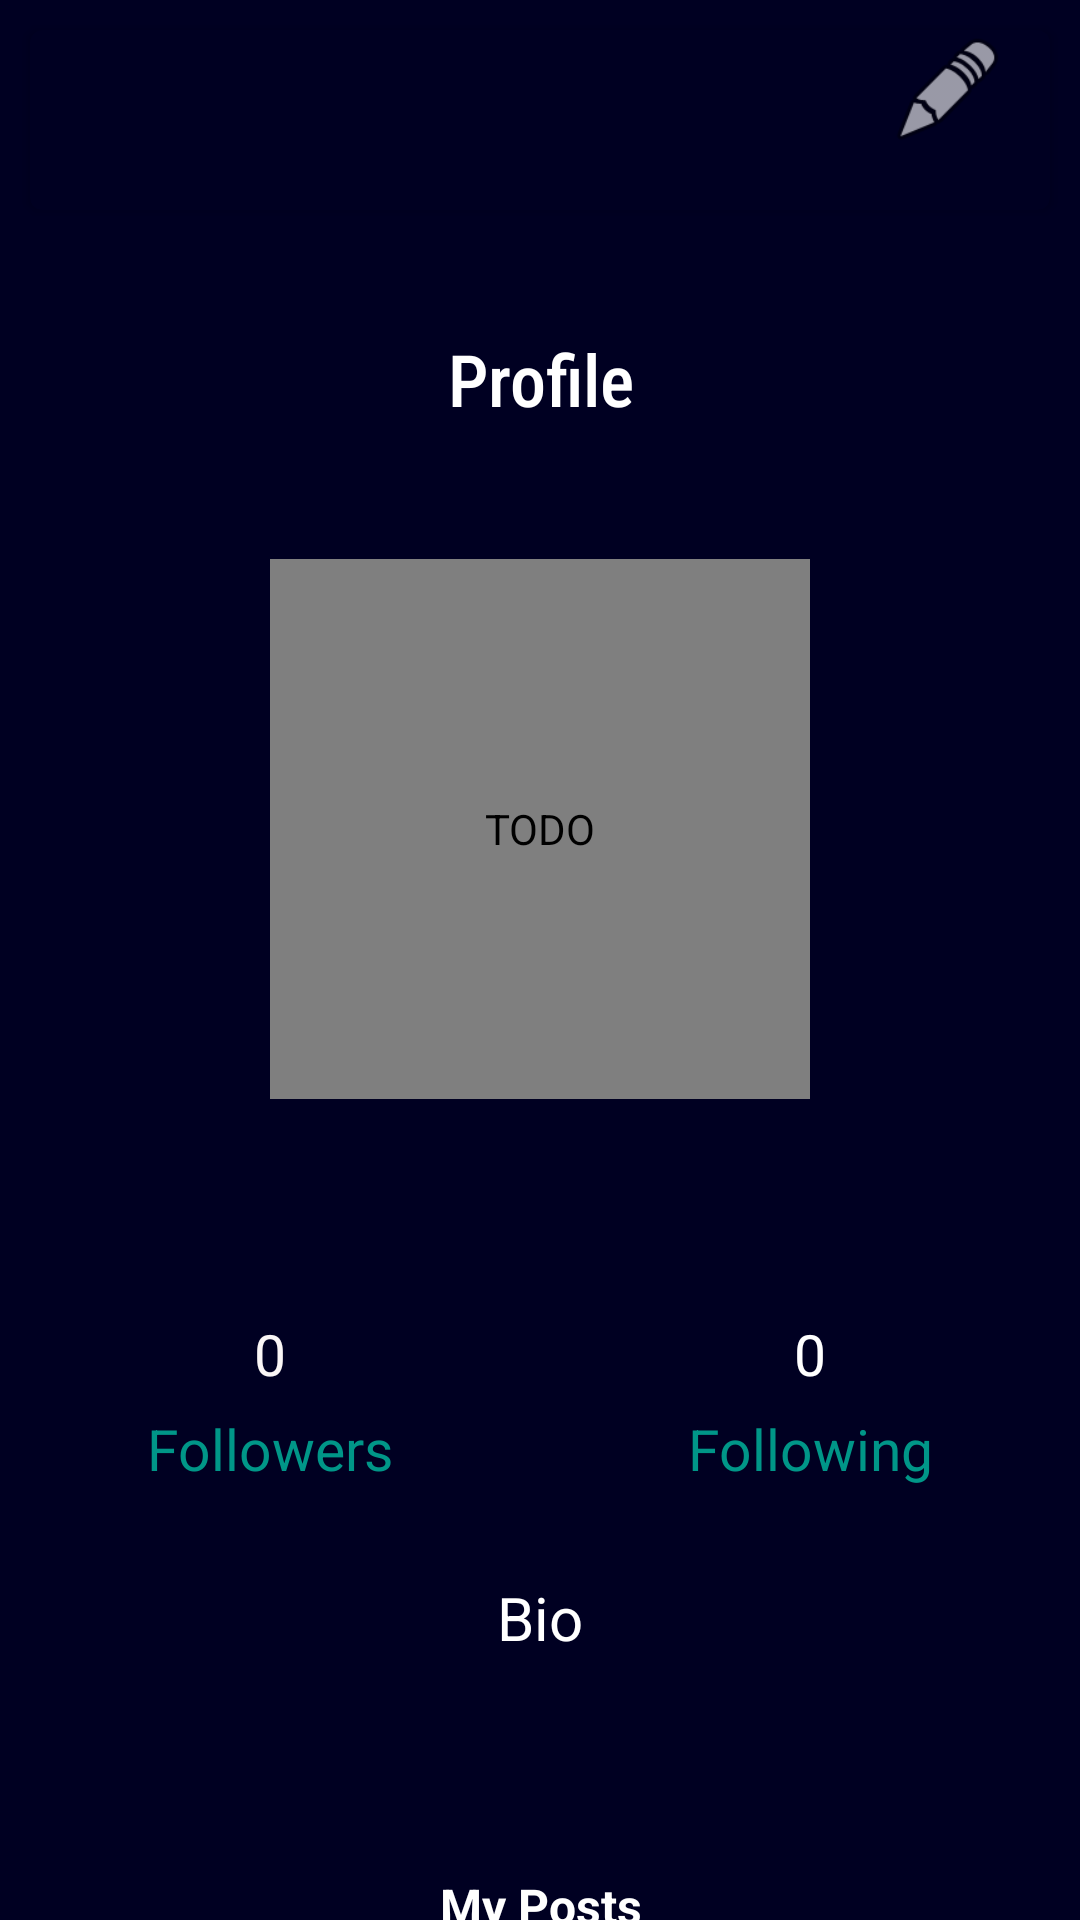

Icons on this 1080px×1920px Android screen, each with the point to tap as point (x, y):
edit: point (947, 89)
